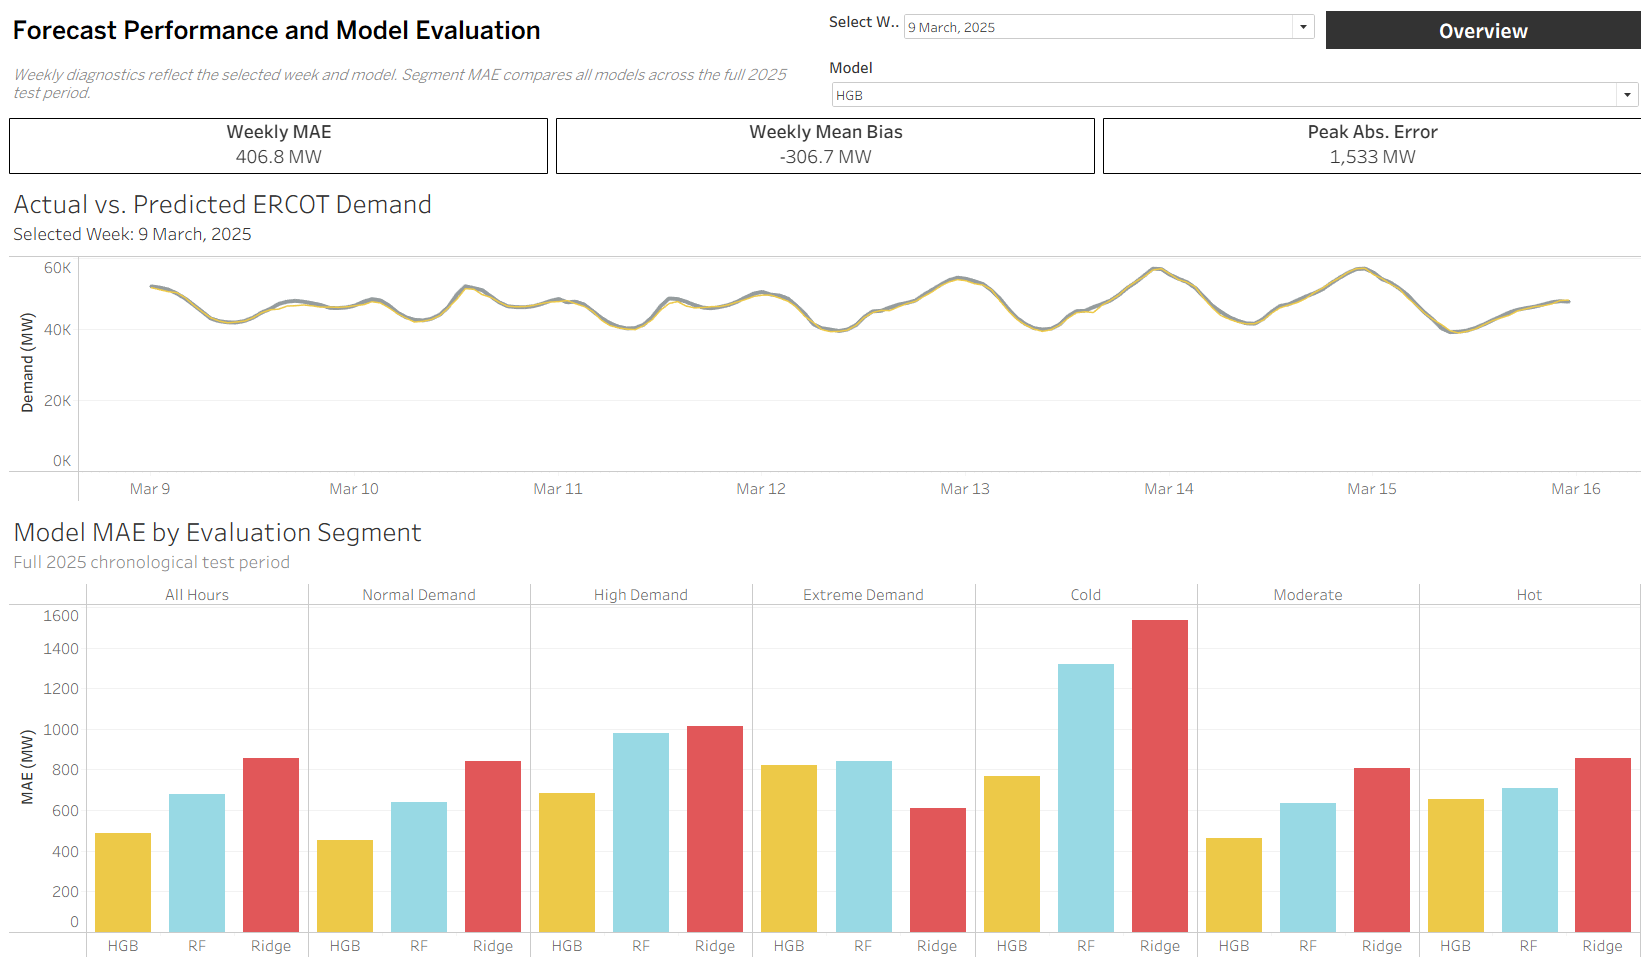

What the dashboard file says about the page in this screenshot:
{"tool":"tableau","page":{"name":"Forecast Performance and Model Evaluation","canvas":[1000,800],"ordinal":1},"visuals":[{"type":"text","box":[8,8,492,38]},{"type":"filter","title":"Actual vs Predicted Line","param":"[federated.172cnzs0gjs7201asmh8x13m62n3].[none:Calculation_1002231204085763:ok]","box":[500,8,298,38]},{"type":"dashboard-object","box":[798,8,194,38]},{"type":"text","box":[8,46,492,50]},{"type":"filter","title":"Actual vs Predicted Line","param":"[federated.172cnzs0gjs7201asmh8x13m62n3].[none:model:nk]","box":[500,46,492,50]},{"type":"worksheet","title":"Weekly MAE KPI","mark":"Text","box":[8,96,328,52.6]},{"type":"worksheet","title":"Weekly Bias KPI","mark":"Automatic","box":[336,96,328,52.6]},{"type":"worksheet","title":"Peak Abs Error KPI","mark":"Text","box":[664,96,328,52.6]},{"type":"worksheet","title":"Actual vs Predicted Line","mark":"Automatic","rows":["Calculation_1002231200657409","predicted_demand"],"cols":["period_utc_tableau"],"box":[8,148.6,984,269.4]},{"type":"worksheet","title":"MAE by Segment","mark":"Automatic","rows":["mae"],"cols":["segment","model"],"box":[8,418,984,374]}]}

Visuals, with their boxes on the page's 1000x800 design canvas (x1, y1, x2, y2). These are canvas units, not pixel positions in the 1647x967 screenshot, which may show the page scaled, cropped or inside an application window:
text: [8, 8, 500, 46]
"Actual vs Predicted Line" filter: [500, 8, 798, 46]
dashboard-object: [798, 8, 992, 46]
text: [8, 46, 500, 96]
"Actual vs Predicted Line" filter: [500, 46, 992, 96]
"Weekly MAE KPI" worksheet (Text marks): [8, 96, 336, 149]
"Weekly Bias KPI" worksheet: [336, 96, 664, 149]
"Peak Abs Error KPI" worksheet (Text marks): [664, 96, 992, 149]
"Actual vs Predicted Line" worksheet: [8, 149, 992, 418]
"MAE by Segment" worksheet: [8, 418, 992, 792]
